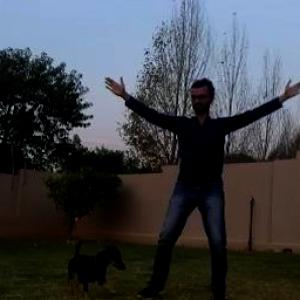takeoff: (117, 67, 299, 299)
